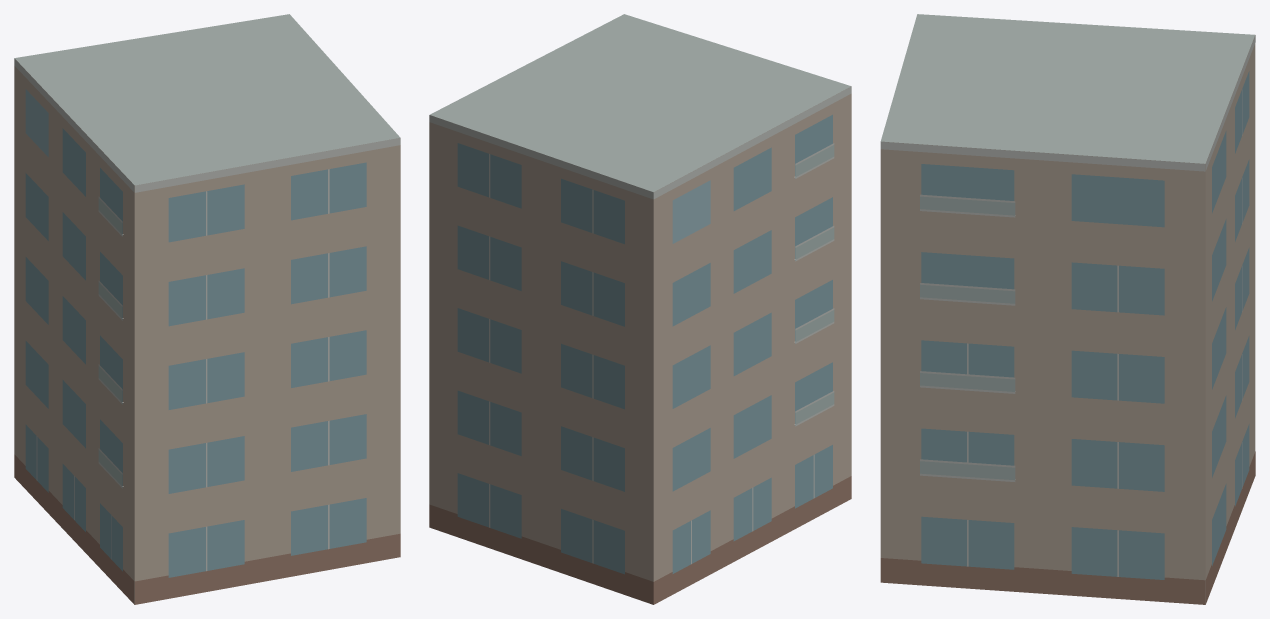
File: survey-upis-32734400.glb
The picture shows the model from 3 angles, left to right: view 1: azimuth 30°, elevation 25°; view 2: azimuth 150°, elevation 25°; view 3: azimuth 270°, elevation 25°; orthographic projection. The views are drawn at different scales.
Parts seen in each view (by area): view 1: survey-upis-32734400.tmp; view 2: survey-upis-32734400.tmp; view 3: survey-upis-32734400.tmp.
Boxes of the visible parts, x1,y1,x2,y2 form: survey-upis-32734400.tmp: (14, 14, 400, 604); survey-upis-32734400.tmp: (429, 14, 851, 604); survey-upis-32734400.tmp: (880, 14, 1255, 604).
Size of the model in its own units: 10.14 by 13.9 by 10.72.
